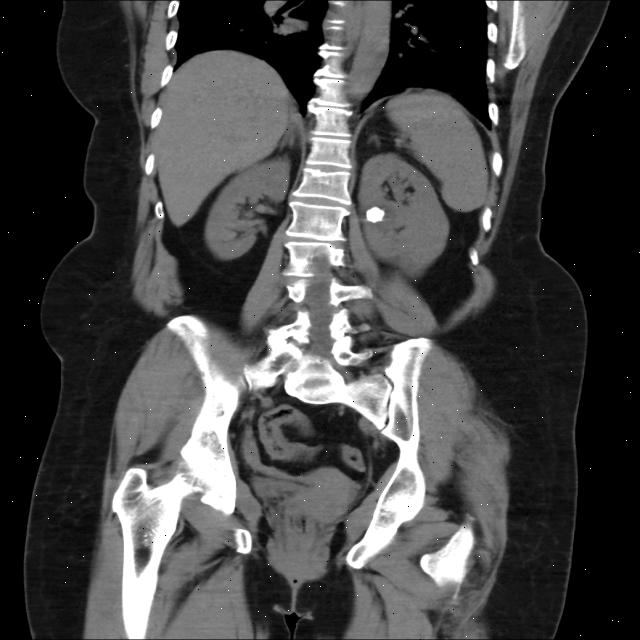kidneystone: (365, 206, 384, 222)
